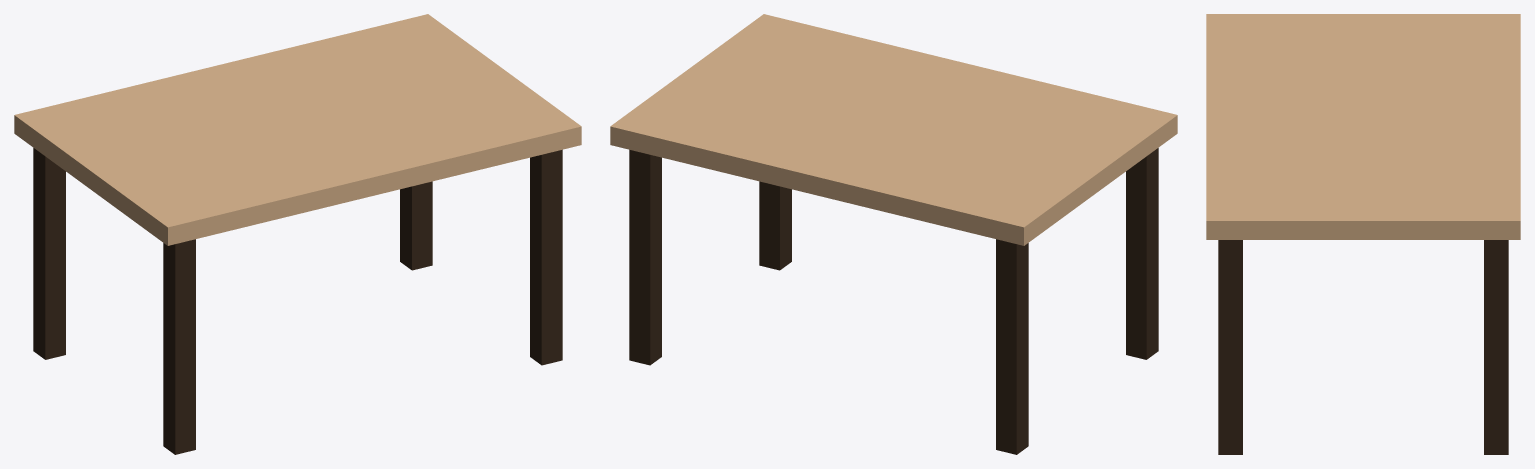
The model's file is PRP_Table_A.glb.
3 views of the same model, side by side, from view 1: azimuth 30°, elevation 25°; view 2: azimuth 150°, elevation 25°; view 3: azimuth 270°, elevation 25° (orthographic). The views are drawn at different scales.
Visible parts, largest first — view 1: PRP_Table_A_Top, PRP_Table_A_Leg0, PRP_Table_A_Leg1, PRP_Table_A_Leg2, PRP_Table_A_Leg3; view 2: PRP_Table_A_Top, PRP_Table_A_Leg2, PRP_Table_A_Leg3, PRP_Table_A_Leg0, PRP_Table_A_Leg1; view 3: PRP_Table_A_Top, PRP_Table_A_Leg1, PRP_Table_A_Leg3.
Part boxes in pixels (left/top/right/bottom): PRP_Table_A_Top: left=14, top=14, right=581, bottom=245; PRP_Table_A_Leg0: left=163, top=239, right=195, bottom=454; PRP_Table_A_Leg1: left=530, top=149, right=562, bottom=365; PRP_Table_A_Leg2: left=33, top=148, right=65, bottom=359; PRP_Table_A_Leg3: left=400, top=181, right=432, bottom=270; PRP_Table_A_Top: left=610, top=14, right=1177, bottom=245; PRP_Table_A_Leg2: left=996, top=239, right=1028, bottom=454; PRP_Table_A_Leg3: left=629, top=149, right=661, bottom=365; PRP_Table_A_Leg0: left=1126, top=148, right=1158, bottom=359; PRP_Table_A_Leg1: left=759, top=181, right=791, bottom=270; PRP_Table_A_Top: left=1206, top=14, right=1520, bottom=239; PRP_Table_A_Leg1: left=1218, top=240, right=1242, bottom=454; PRP_Table_A_Leg3: left=1484, top=240, right=1508, bottom=454.
Bounding box in the file's own units: 1.4 × 0.76 × 0.9.
